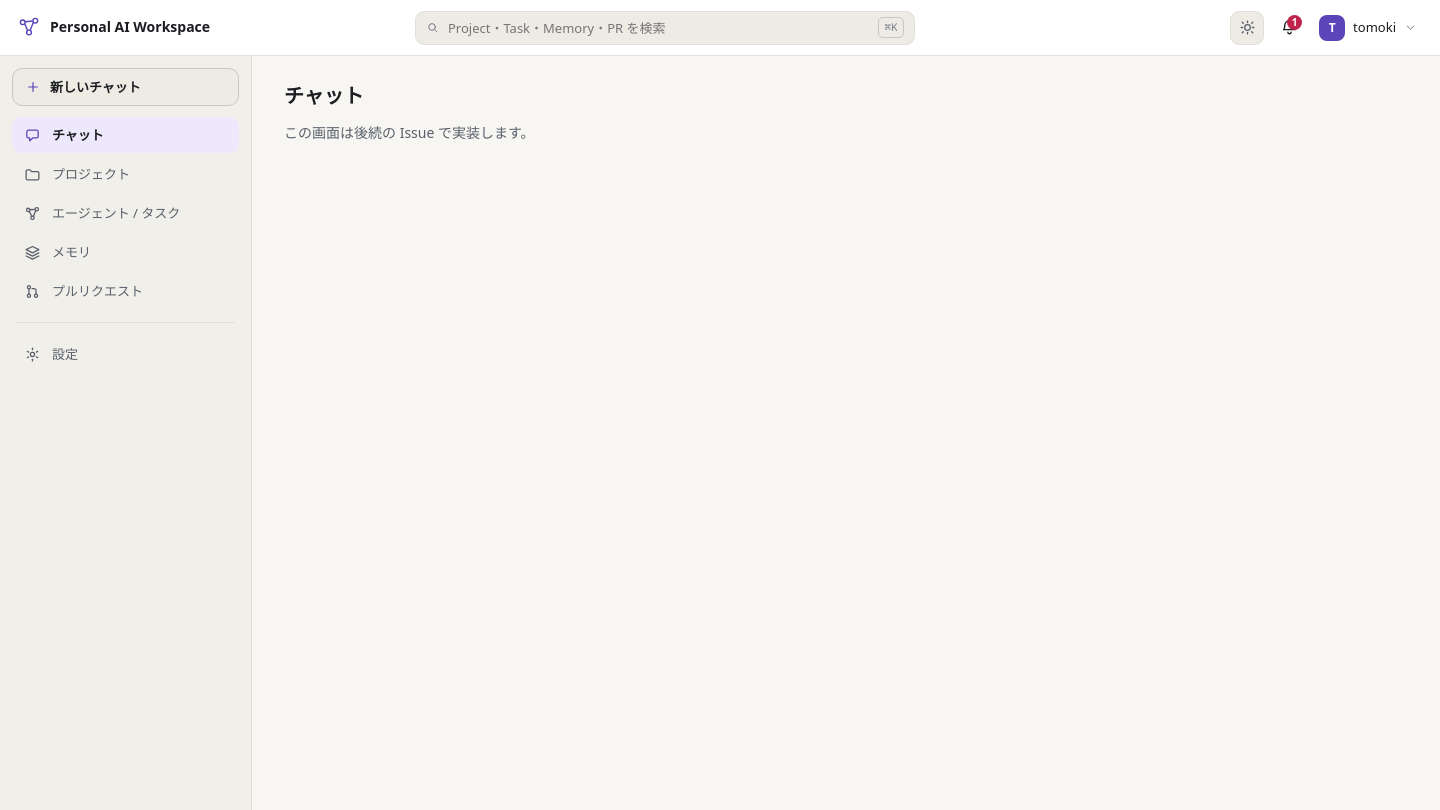
App › shows the design's user menu and signs out from it
Click the button with aria-label "アカウントメニュー".
click(1370, 28)  # box [1314, 10, 1426, 44]
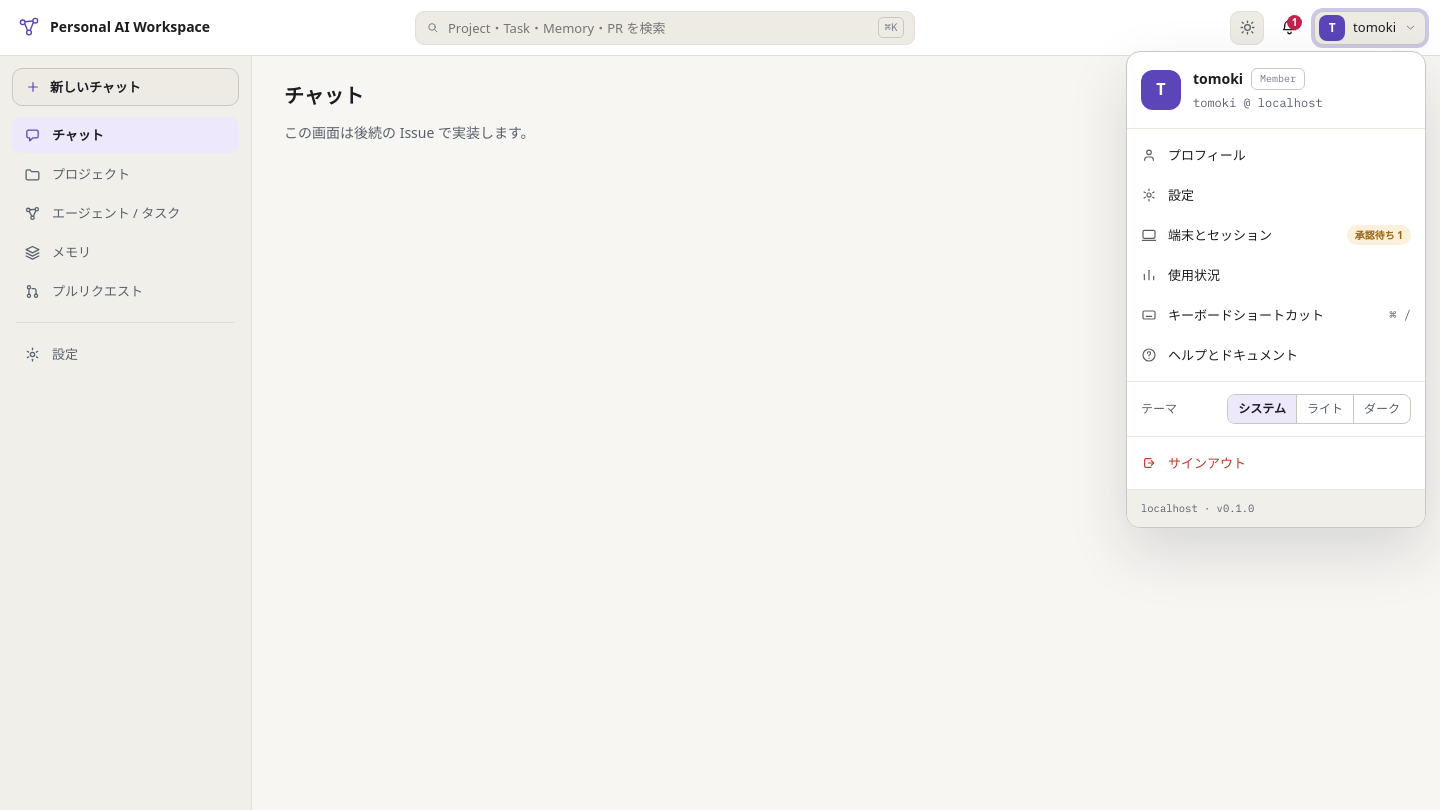
Expected: the text "Member" is shown, [1251, 68, 1305, 90]
Expected: the link "プロフィール" is shown, [1141, 146, 1246, 164]
Expected: the link "設定" below "プロフィール" is shown, [1141, 186, 1194, 204]
Click the button "サインアウト".
click(1207, 463)  # box [1127, 443, 1425, 483]
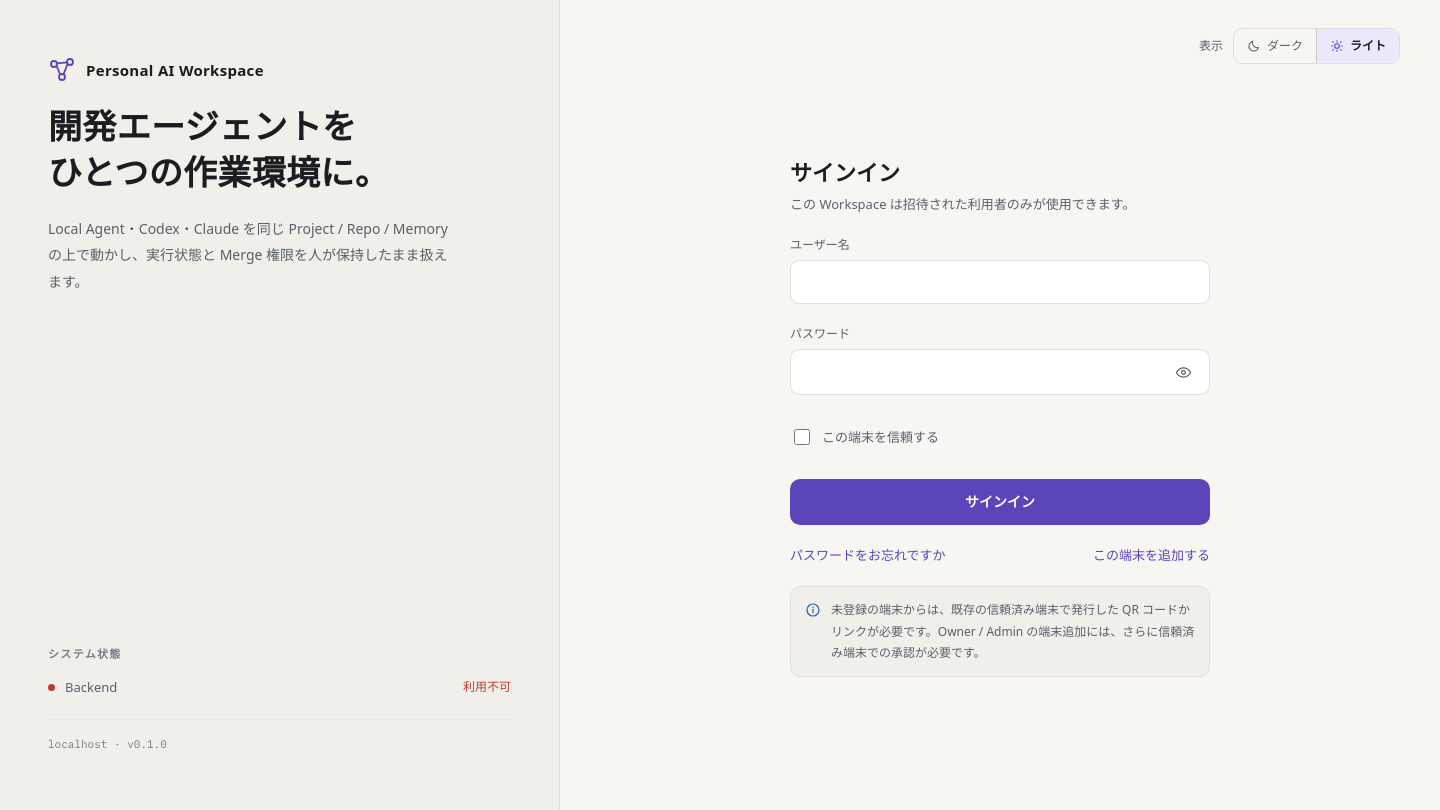
Expected: the heading "サインイン" is shown, [790, 157, 900, 187]
